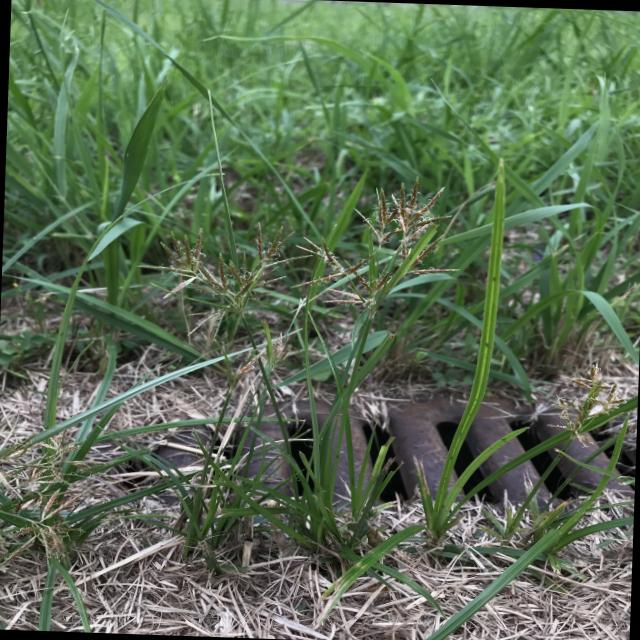cyperus: (150, 170, 462, 368), (302, 173, 459, 328), (150, 219, 288, 366)
